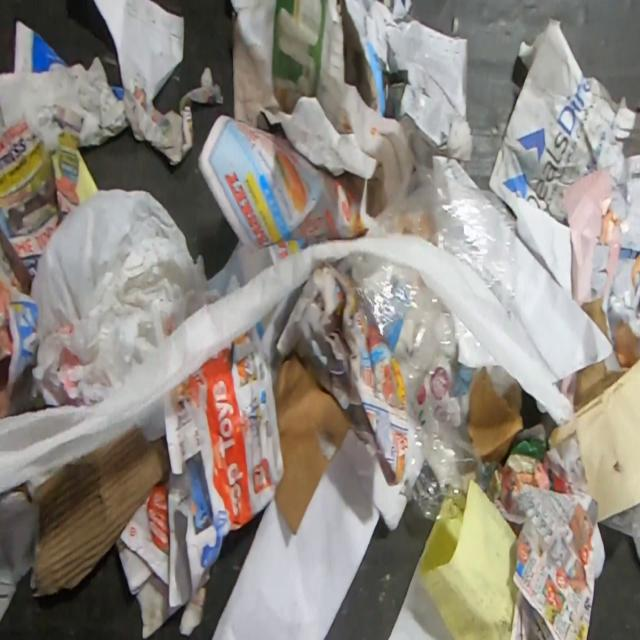cardboard: (28, 421, 170, 598), (273, 351, 353, 539), (467, 365, 524, 463), (573, 358, 630, 413), (580, 295, 608, 337)
soft_plastic: (29, 186, 220, 407), (350, 250, 500, 523), (364, 163, 519, 319)
